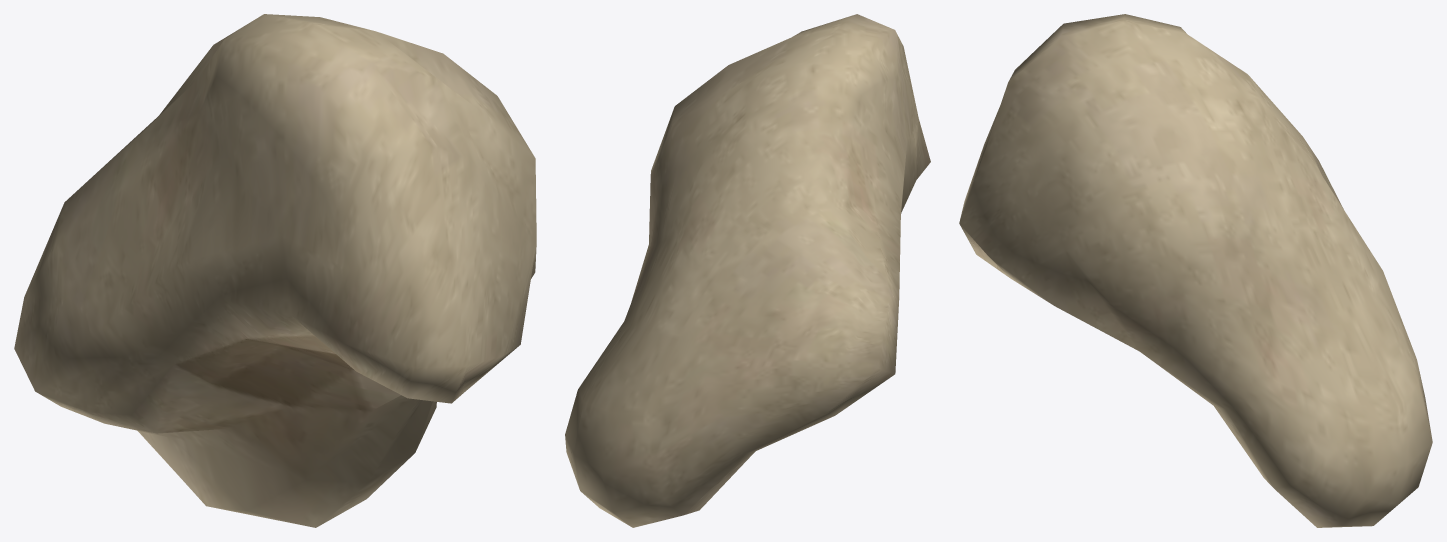
The model's file is Ulnar.glb.
3 views of the same model, side by side, from view 1: azimuth 30°, elevation 25°; view 2: azimuth 150°, elevation 25°; view 3: azimuth 270°, elevation 25° (orthographic). The views are drawn at different scales.
Visible parts, largest first — view 1: Ulnar_Left1:Group30385; view 2: Ulnar_Left1:Group30385; view 3: Ulnar_Left1:Group30385.
Part boxes in pixels (<box>): Ulnar_Left1:Group30385: <box>14,14,536,527</box>; Ulnar_Left1:Group30385: <box>565,14,930,527</box>; Ulnar_Left1:Group30385: <box>959,14,1432,527</box>.
Bounding box in the file's own units: 10.46 × 14.79 × 14.13.
Materials: 1 (1 with a texture image).
